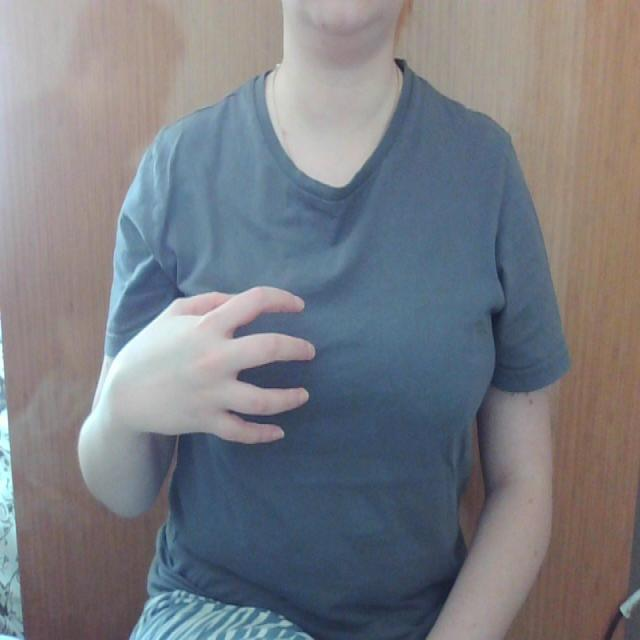Anne: (95, 231, 536, 460)
